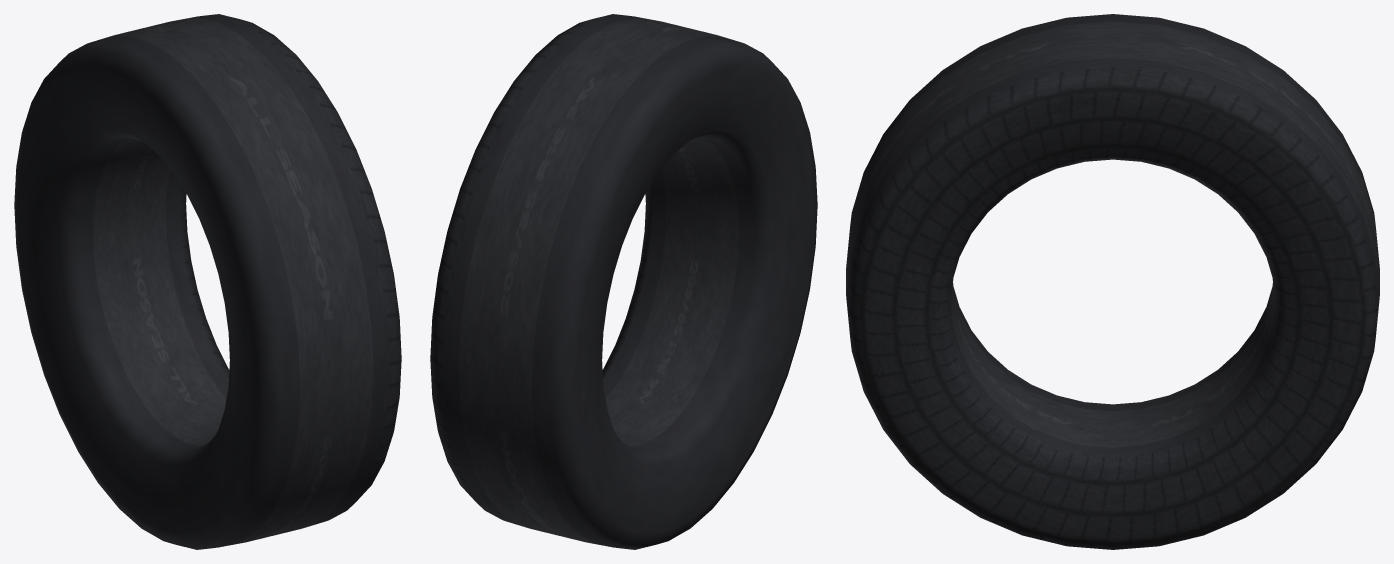
The model's file is gs_tire.glb.
The picture shows the model from 3 angles, left to right: view 1: azimuth 30°, elevation 25°; view 2: azimuth 150°, elevation 25°; view 3: azimuth 270°, elevation 25°; orthographic projection.
Parts seen in each view (by area): view 1: gs_tire; view 2: gs_tire; view 3: gs_tire.
Part boxes in pixels (x1,y1,x2,y2): gs_tire: [14, 14, 401, 549]; gs_tire: [430, 14, 817, 549]; gs_tire: [846, 14, 1379, 549].
Size of the model in its own units: 0.206 by 0.654 by 0.654.
1 material, 1 textured.
